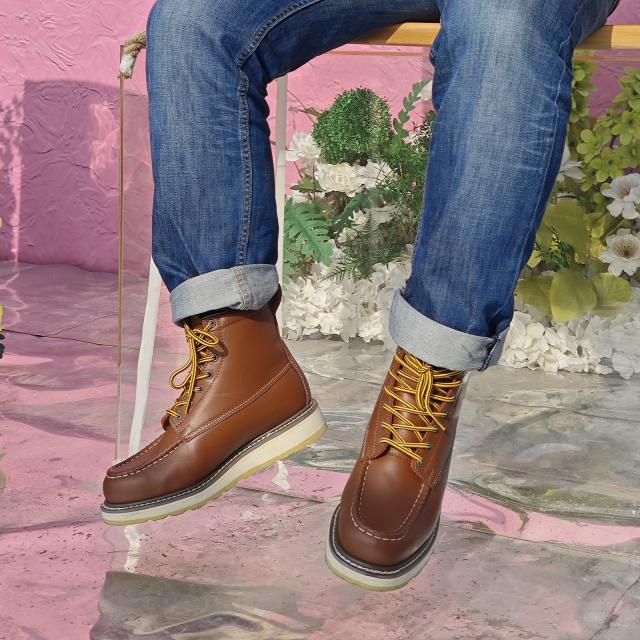Boots: (97, 302, 338, 524), (319, 338, 475, 594)
